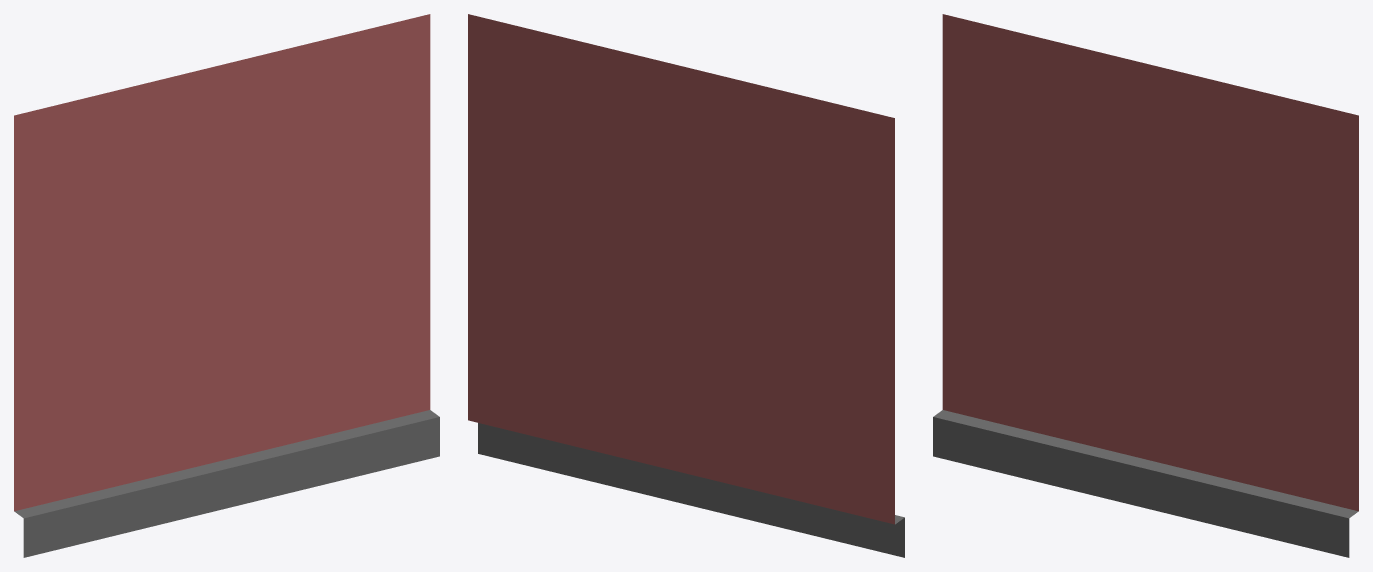
Rendered from Wall_TEST.fbx.
The picture shows the model from 3 angles, left to right: view 1: azimuth 30°, elevation 25°; view 2: azimuth 150°, elevation 25°; view 3: azimuth 330°, elevation 25°; orthographic projection. The views are drawn at different scales.
Parts seen in each view (by area): view 1: Wall_NoWindow_01; view 2: Wall_NoWindow_01; view 3: Wall_NoWindow_01.
Boxes of the visible parts, x1=… form: Wall_NoWindow_01: x1=14, y1=14, x2=439, y2=557; Wall_NoWindow_01: x1=468, y1=14, x2=904, y2=557; Wall_NoWindow_01: x1=933, y1=14, x2=1358, y2=557.
Size of the model in its own units: 4 by 4 by 0.1597.
